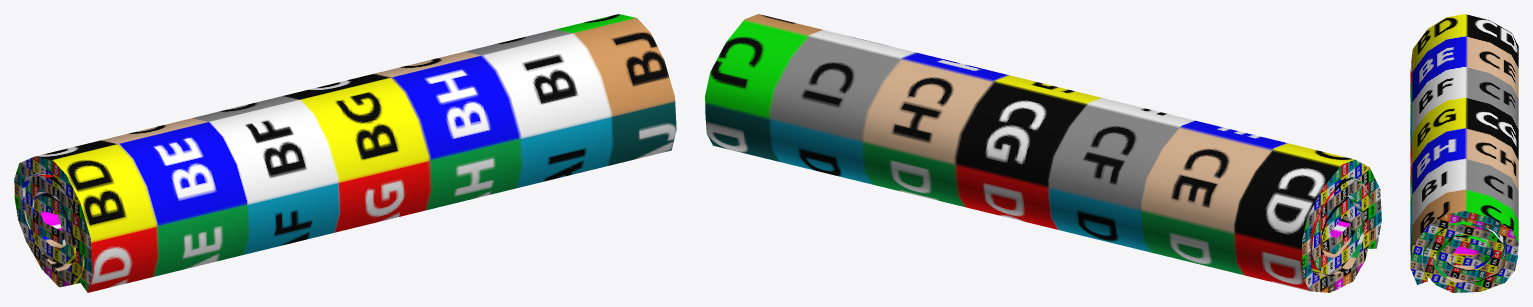
File: Towel1.FBX
3 renders of one model, left to right at view 1: azimuth 30°, elevation 25°; view 2: azimuth 150°, elevation 25°; view 3: azimuth 270°, elevation 25°, orthographic. The views are drawn at different scales.
Visible parts, largest first — view 1: towel1; view 2: towel1; view 3: towel1.
Part boxes in pixels (bbox=[...]): towel1: bbox=[14, 14, 676, 292]; towel1: bbox=[705, 14, 1381, 292]; towel1: bbox=[1410, 14, 1518, 292].
Bounding box in the file's own units: 1.2 × 0.2332 × 0.276.
Materials: 1 (1 with a texture image).
